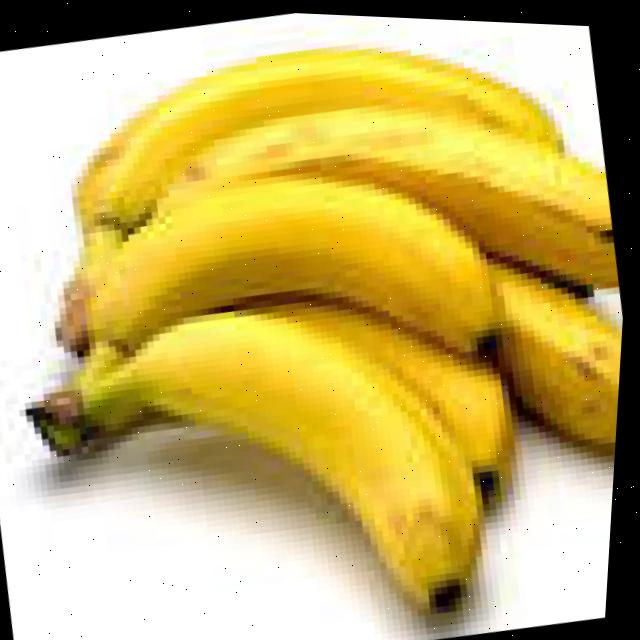Banana: (83, 304, 514, 601), (78, 45, 559, 227), (192, 101, 619, 278), (91, 175, 497, 345), (496, 258, 626, 441)
